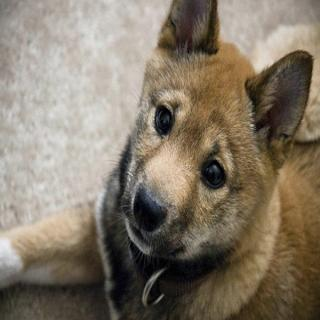dog: (118, 0, 320, 261)
nose: (127, 182, 176, 239)
